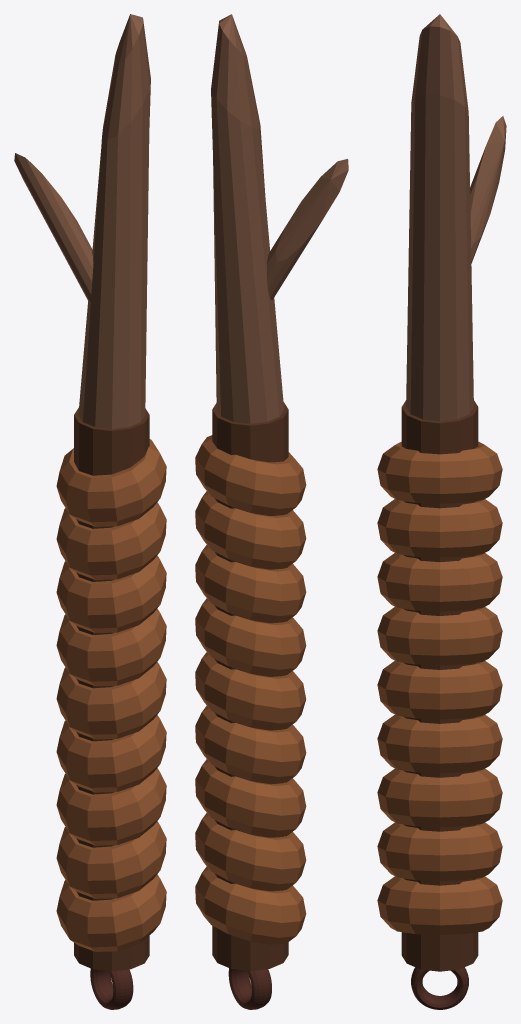
The model's file is Wand 461.glb.
3 renders of one model, left to right at view 1: azimuth 30°, elevation 25°; view 2: azimuth 210°, elevation 25°; view 3: azimuth 270°, elevation 25°, orthographic.
Parts seen in each view (by area): view 1: GeneratedWand; view 2: GeneratedWand; view 3: GeneratedWand.
Part boxes in pixels (bbox=[...]): GeneratedWand: bbox=[14, 14, 166, 1009]; GeneratedWand: bbox=[195, 14, 348, 1009]; GeneratedWand: bbox=[377, 14, 506, 1009].
Bounding box in the file's own units: 0.0604 × 0.5135 × 0.0599.
